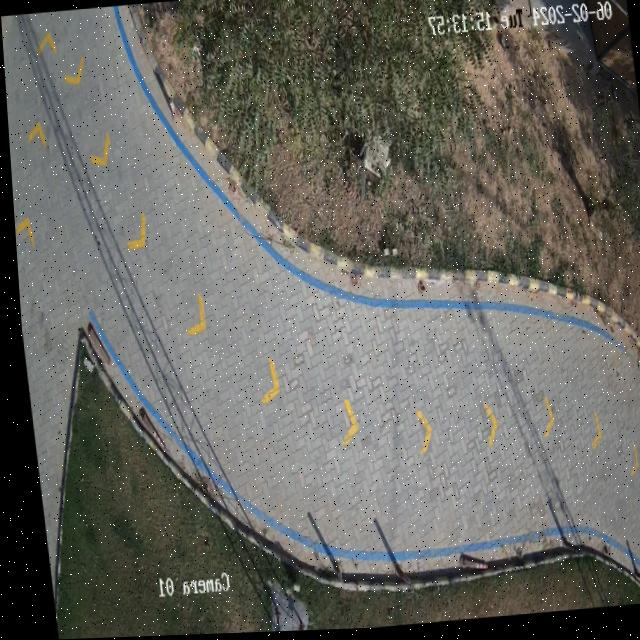No Car: (1, 0, 640, 640)
